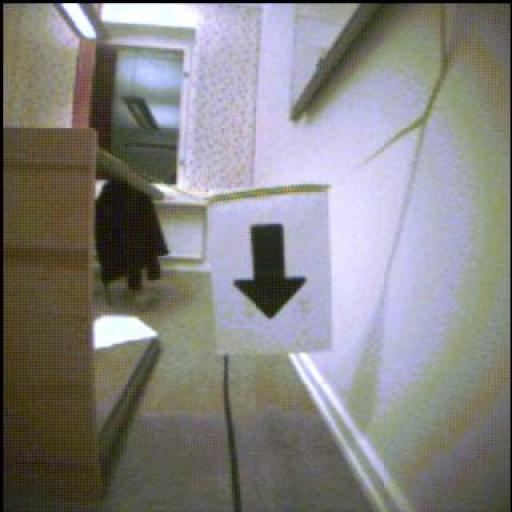arrow: (235, 225, 307, 319)
